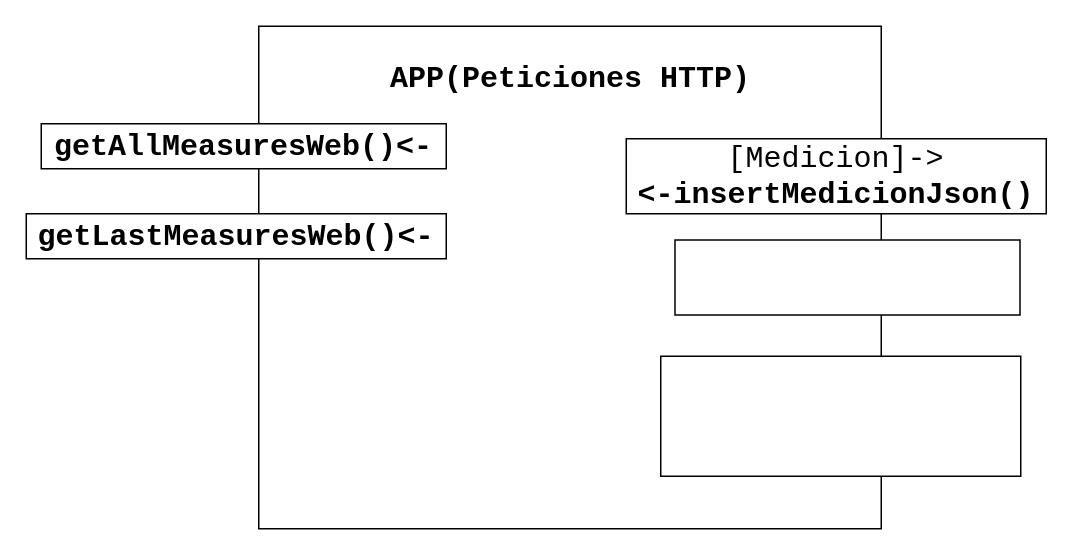
Image size: 1073x555. Some labels were removed from this diagram. The centre of each missing label's shape, as x and y in pixels:
"->getAllMeasures() ->[Medicion]" goes at [847,276].
"N-> ->getLastMeasures() - >[Medcion]" goes at [840,415].
